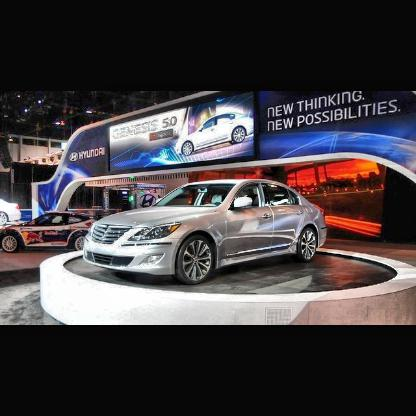Hyundai Genesis Sedan 2012: (85, 182, 328, 286)
